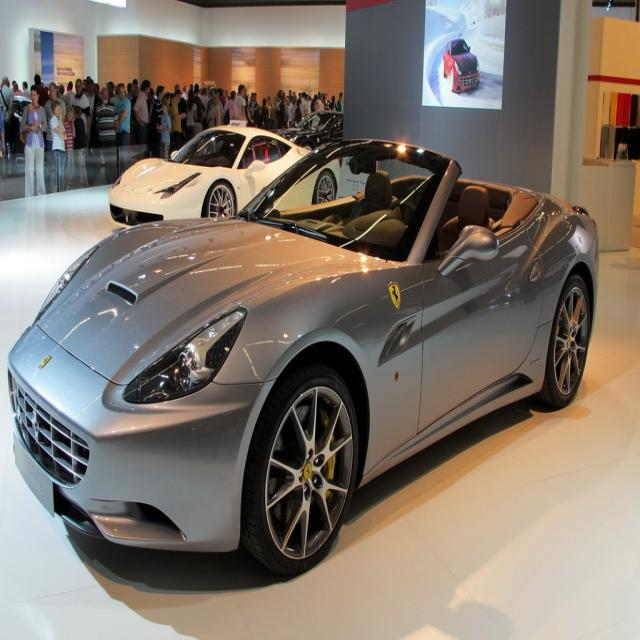car: (24, 138, 591, 573)
